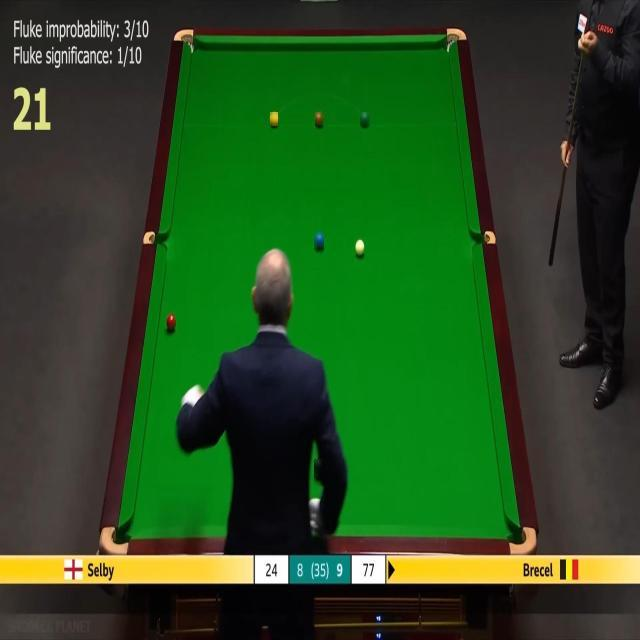Ball: (166, 313, 176, 332), (314, 459, 324, 478), (355, 238, 365, 256), (314, 232, 324, 250), (360, 112, 370, 126), (316, 112, 324, 126), (270, 112, 278, 126)
